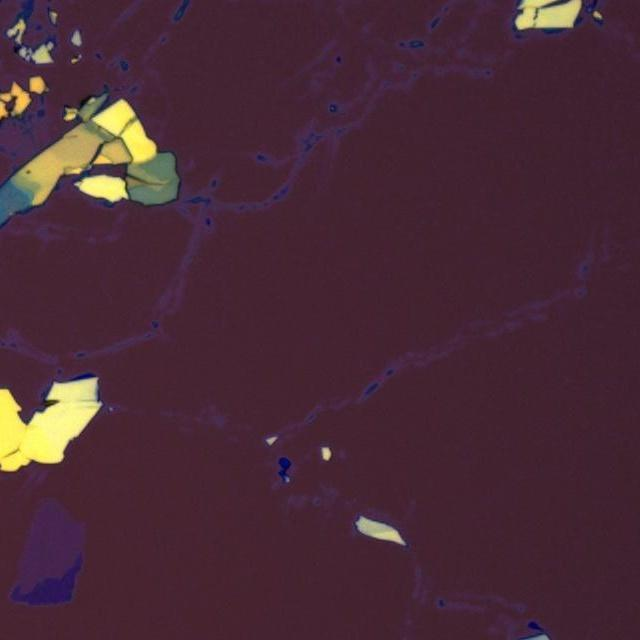monolayer-eWW4: (15, 498, 80, 592)
